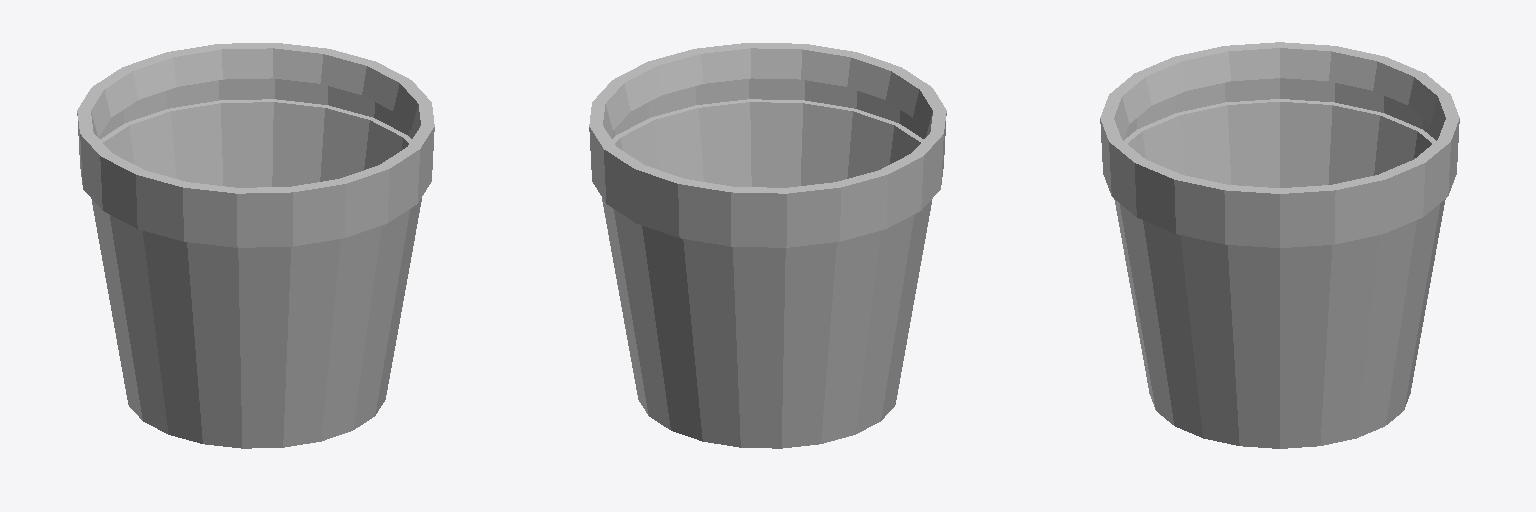
3 renders of one model, left to right at view 1: azimuth 30°, elevation 25°; view 2: azimuth 150°, elevation 25°; view 3: azimuth 270°, elevation 25°, orthographic.
Visible parts, largest first — view 1: eb_house_plant_01; view 2: eb_house_plant_01; view 3: eb_house_plant_01.
Part boxes in pixels (left/top/right/bottom): eb_house_plant_01: left=77, top=43, right=434, bottom=448; eb_house_plant_01: left=589, top=43, right=946, bottom=448; eb_house_plant_01: left=1100, top=42, right=1459, bottom=448.
Bounding box in the file's own units: 2.02 × 1.71 × 2.02.